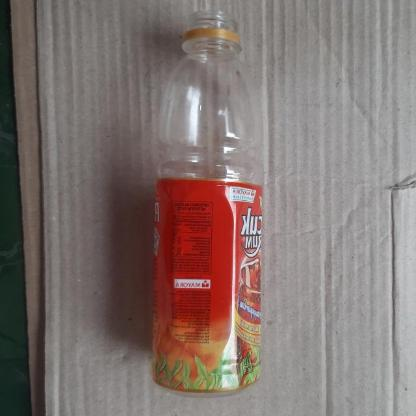Plastic Bottle: (154, 10, 262, 396)
